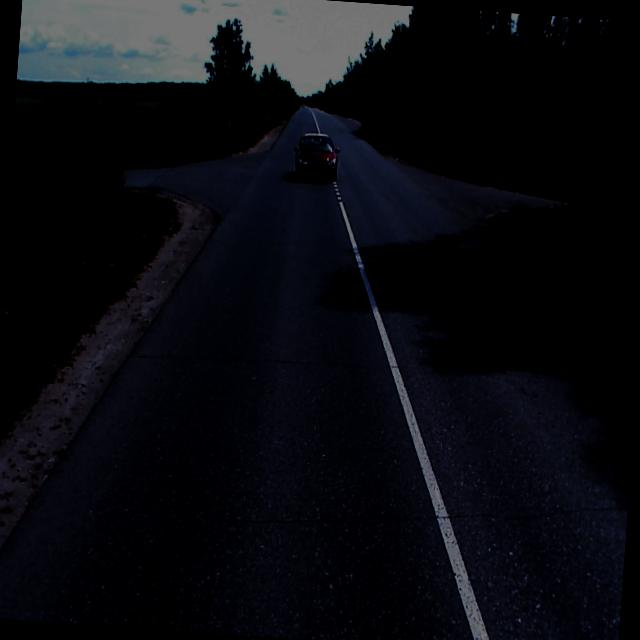road: (0, 106, 637, 640)
